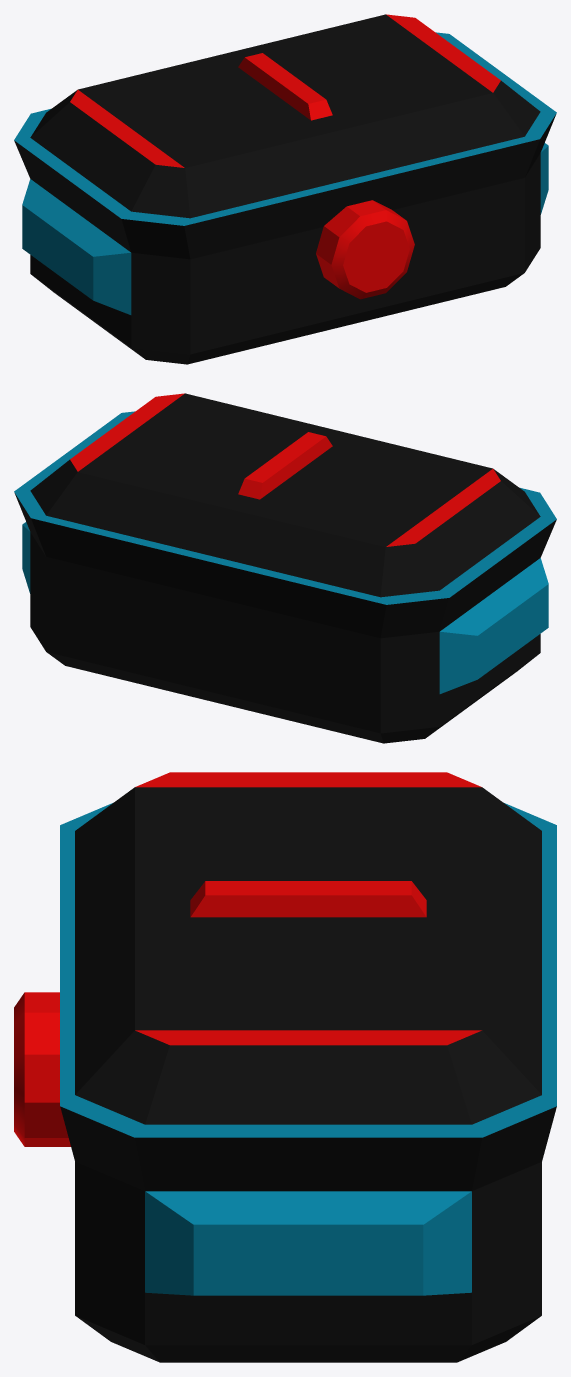
The model's file is Loot.fbx.
3 views of the same model, one above another, from view 1: azimuth 30°, elevation 25°; view 2: azimuth 150°, elevation 25°; view 3: azimuth 270°, elevation 25° (orthographic). The views are drawn at different scales.
Parts seen in each view (by area): view 1: Loot, Loot_lid; view 2: Loot, Loot_lid; view 3: Loot_lid, Loot.
Part boxes in pixels (left/top/right/bottom): Loot: left=14, top=32, right=556, bottom=364; Loot_lid: left=30, top=14, right=540, bottom=218; Loot: left=14, top=411, right=556, bottom=743; Loot_lid: left=30, top=393, right=540, bottom=597; Loot_lid: left=75, top=772, right=541, bottom=1124; Loot: left=14, top=803, right=556, bottom=1362.
Size of the model in its own units: 4.86 by 2.06 by 3.1.
